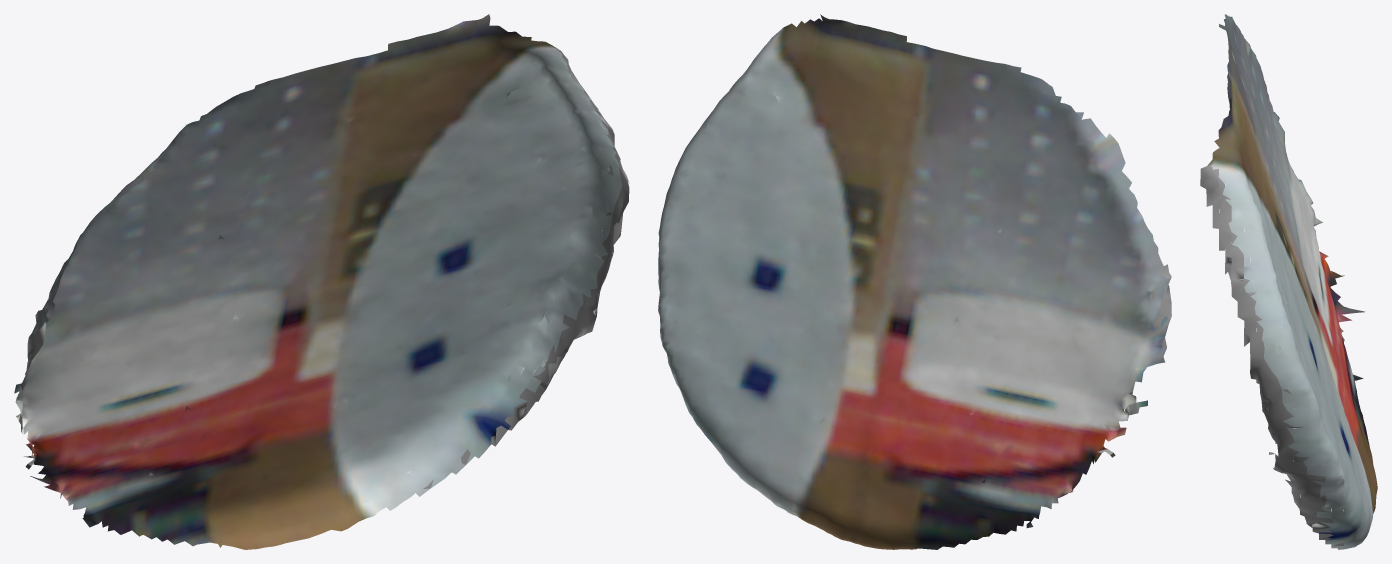
File: textured_mesh_cropped_simplified.obj
The picture shows the model from 3 angles, left to right: view 1: azimuth 30°, elevation 25°; view 2: azimuth 150°, elevation 25°; view 3: azimuth 270°, elevation 25°; orthographic projection. The views are drawn at different scales.
Size of the model in its own units: 0.1809 by 0.1602 by 0.0554.
